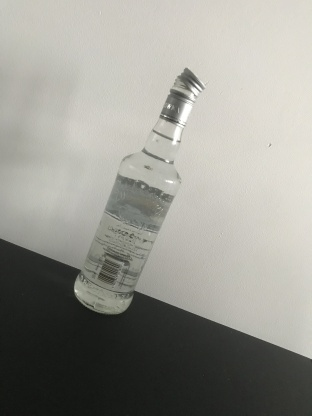nakretka: (157, 65, 206, 131)
